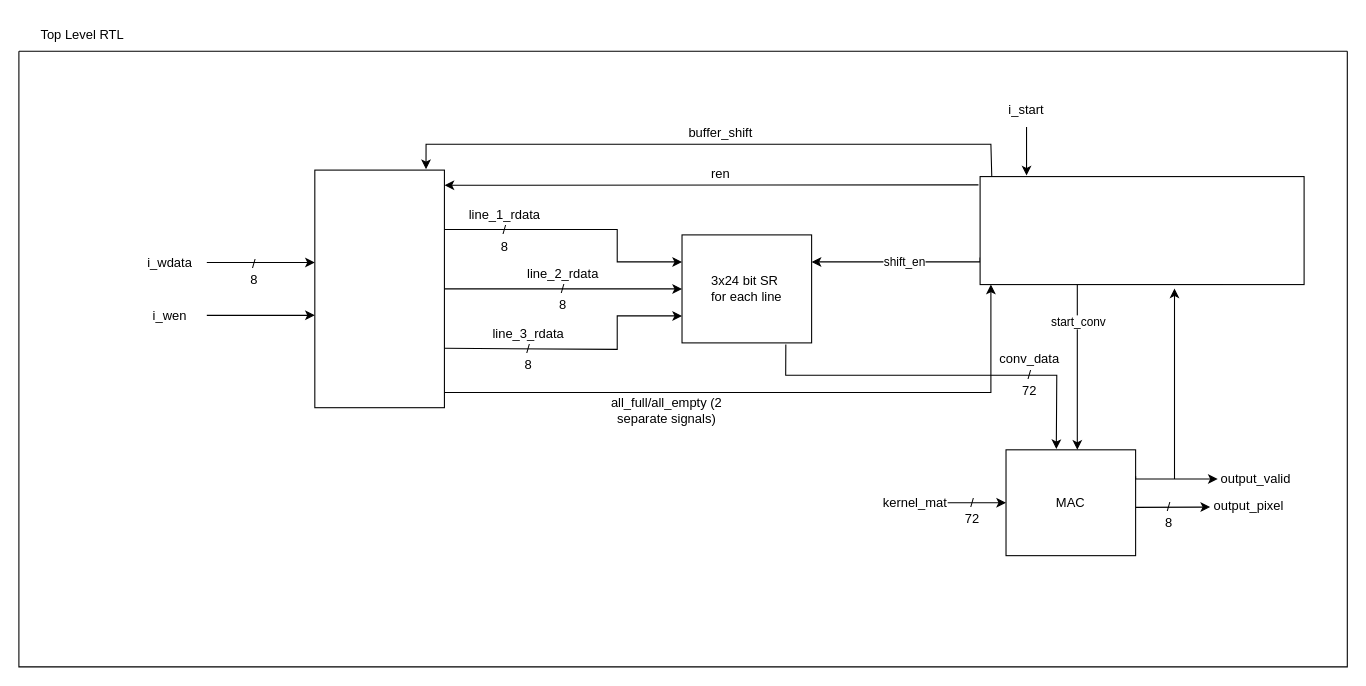
Image size: 1366x686. Some labels were removed from this diagram. Here are the shapes that lost their labels. From the top down, the centre of each, then its label:
At point (1141, 230): "Controller".
At point (379, 288): "Rolling (Data) Buffer".
